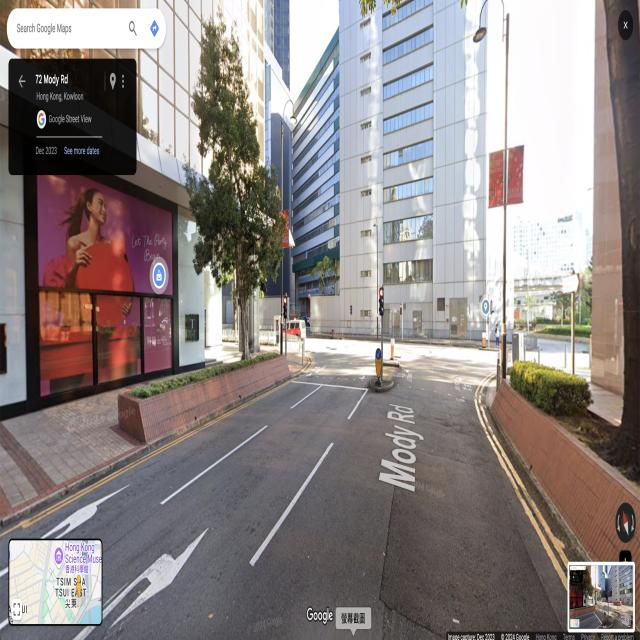Order-Sign: (376, 348, 381, 360)
Street-Direction-Sign: (389, 309, 397, 313)
